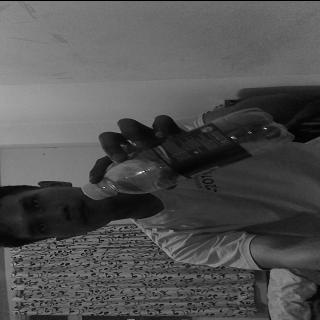plastic_bottles: (80, 108, 296, 200)
